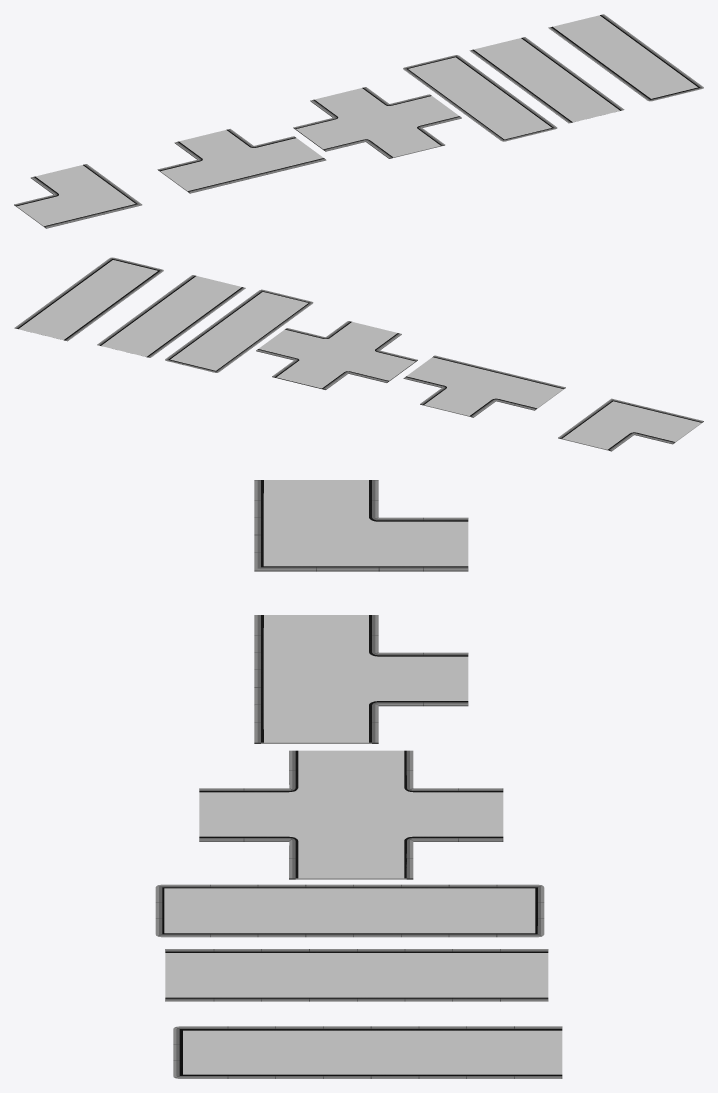
The model's file is City.fbx.
The picture shows the model from 3 angles, top to bottom: view 1: azimuth 30°, elevation 25°; view 2: azimuth 150°, elevation 25°; view 3: azimuth 270°, elevation 25°; orthographic projection. The views are drawn at different scales.
Parts seen in each view (by area): view 1: Cube.005, Cube.006, Cube.003, Cube.001, Cube.004, Cube.002; view 2: Cube.005, Cube.006, Cube.003, Cube.001, Cube.004, Cube.002; view 3: Cube.005, Cube.006, Cube.001, Cube.003, Cube.004, Cube.002.
Part boxes in pixels (x1,y1,x2,y2): Cube.005: [293, 87, 461, 158]; Cube.006: [157, 129, 326, 193]; Cube.003: [548, 14, 703, 101]; Cube.001: [403, 55, 557, 141]; Cube.004: [469, 37, 624, 123]; Cube.002: [14, 164, 142, 228]; Cube.005: [256, 321, 417, 389]; Cube.006: [403, 355, 565, 417]; Cube.003: [14, 257, 163, 341]; Cube.001: [165, 289, 313, 372]; Cube.004: [97, 275, 245, 357]; Cube.002: [558, 398, 703, 451]; Cube.005: [199, 750, 503, 879]; Cube.006: [254, 615, 468, 743]; Cube.001: [155, 884, 544, 937]; Cube.003: [173, 1026, 562, 1078]; Cube.004: [165, 949, 548, 1001]; Cube.002: [254, 480, 468, 571].
Bounding box in the file's own units: 4912 × 5.02 × 1411.
